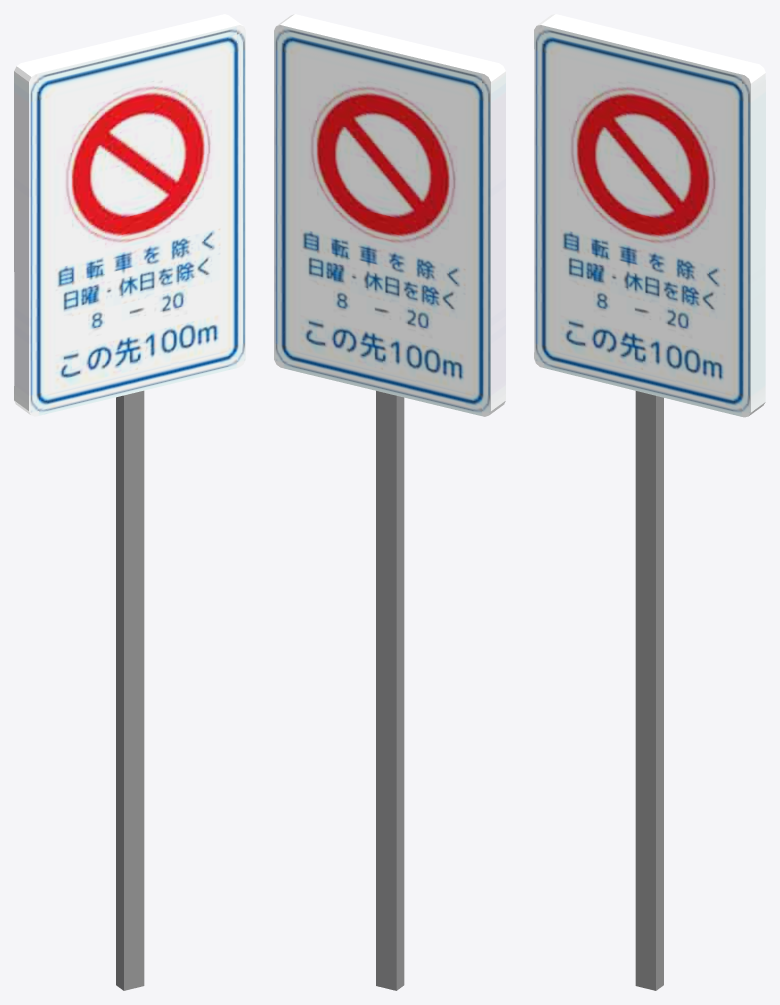
File: 7295a87c-d008-4fe4-acfa-c54af723c25c.glb
The picture shows the model from 3 angles, left to right: view 1: azimuth 30°, elevation 25°; view 2: azimuth 150°, elevation 25°; view 3: azimuth 330°, elevation 25°; orthographic projection.
Parts seen in each view (by area): view 1: Asian100mSign.002; view 2: Asian100mSign.002; view 3: Asian100mSign.002.
Boxes of the visible parts, x1=… form: Asian100mSign.002: x1=14, y1=14, x2=245, y2=990; Asian100mSign.002: x1=274, y1=14, x2=505, y2=990; Asian100mSign.002: x1=534, y1=14, x2=765, y2=990.
Size of what is drawn, in the model's own units: 0.5104 by 2.12 by 0.0608.
2 materials, 2 textured.
